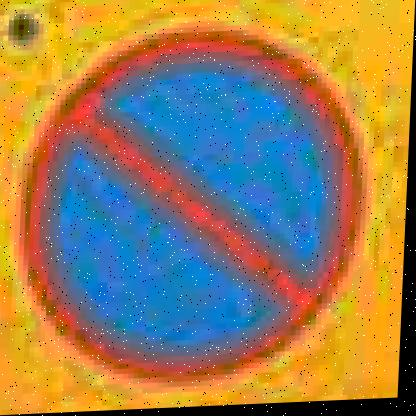No parking: (16, 26, 374, 399)
